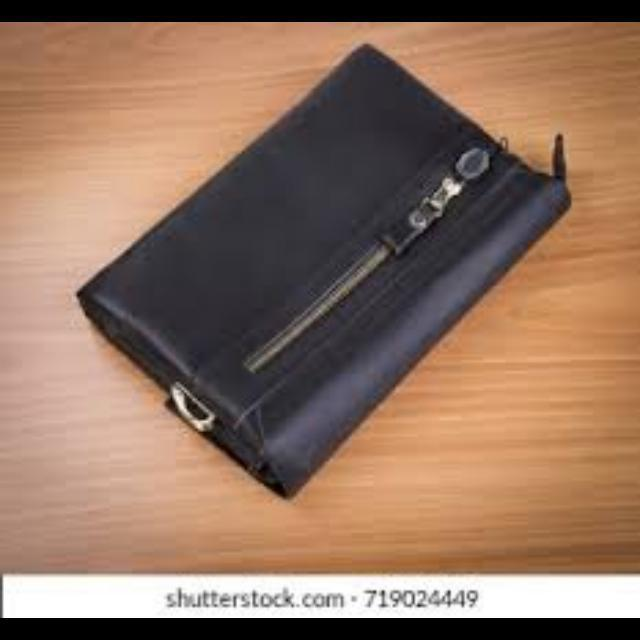wallet: (69, 59, 585, 500)
